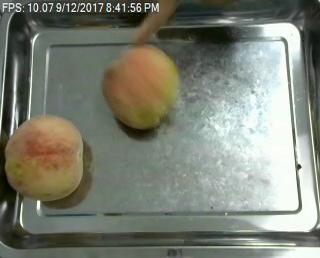Peach: (3, 114, 85, 203), (101, 44, 178, 130)
